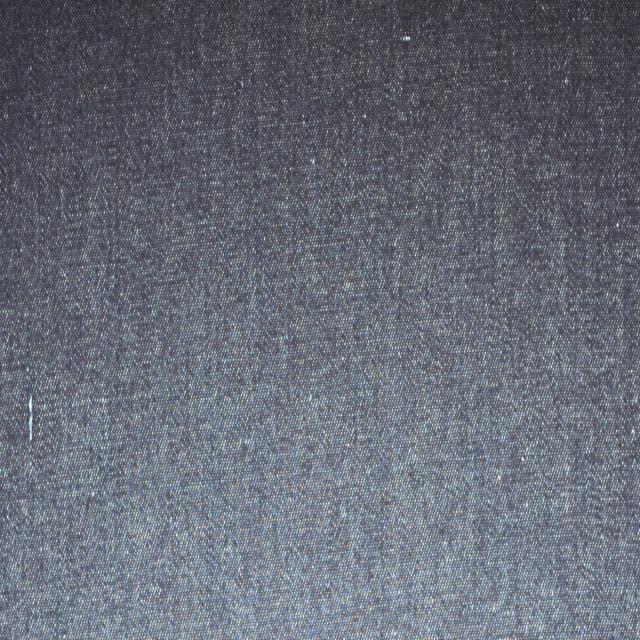Knot: (27, 393, 33, 444)
